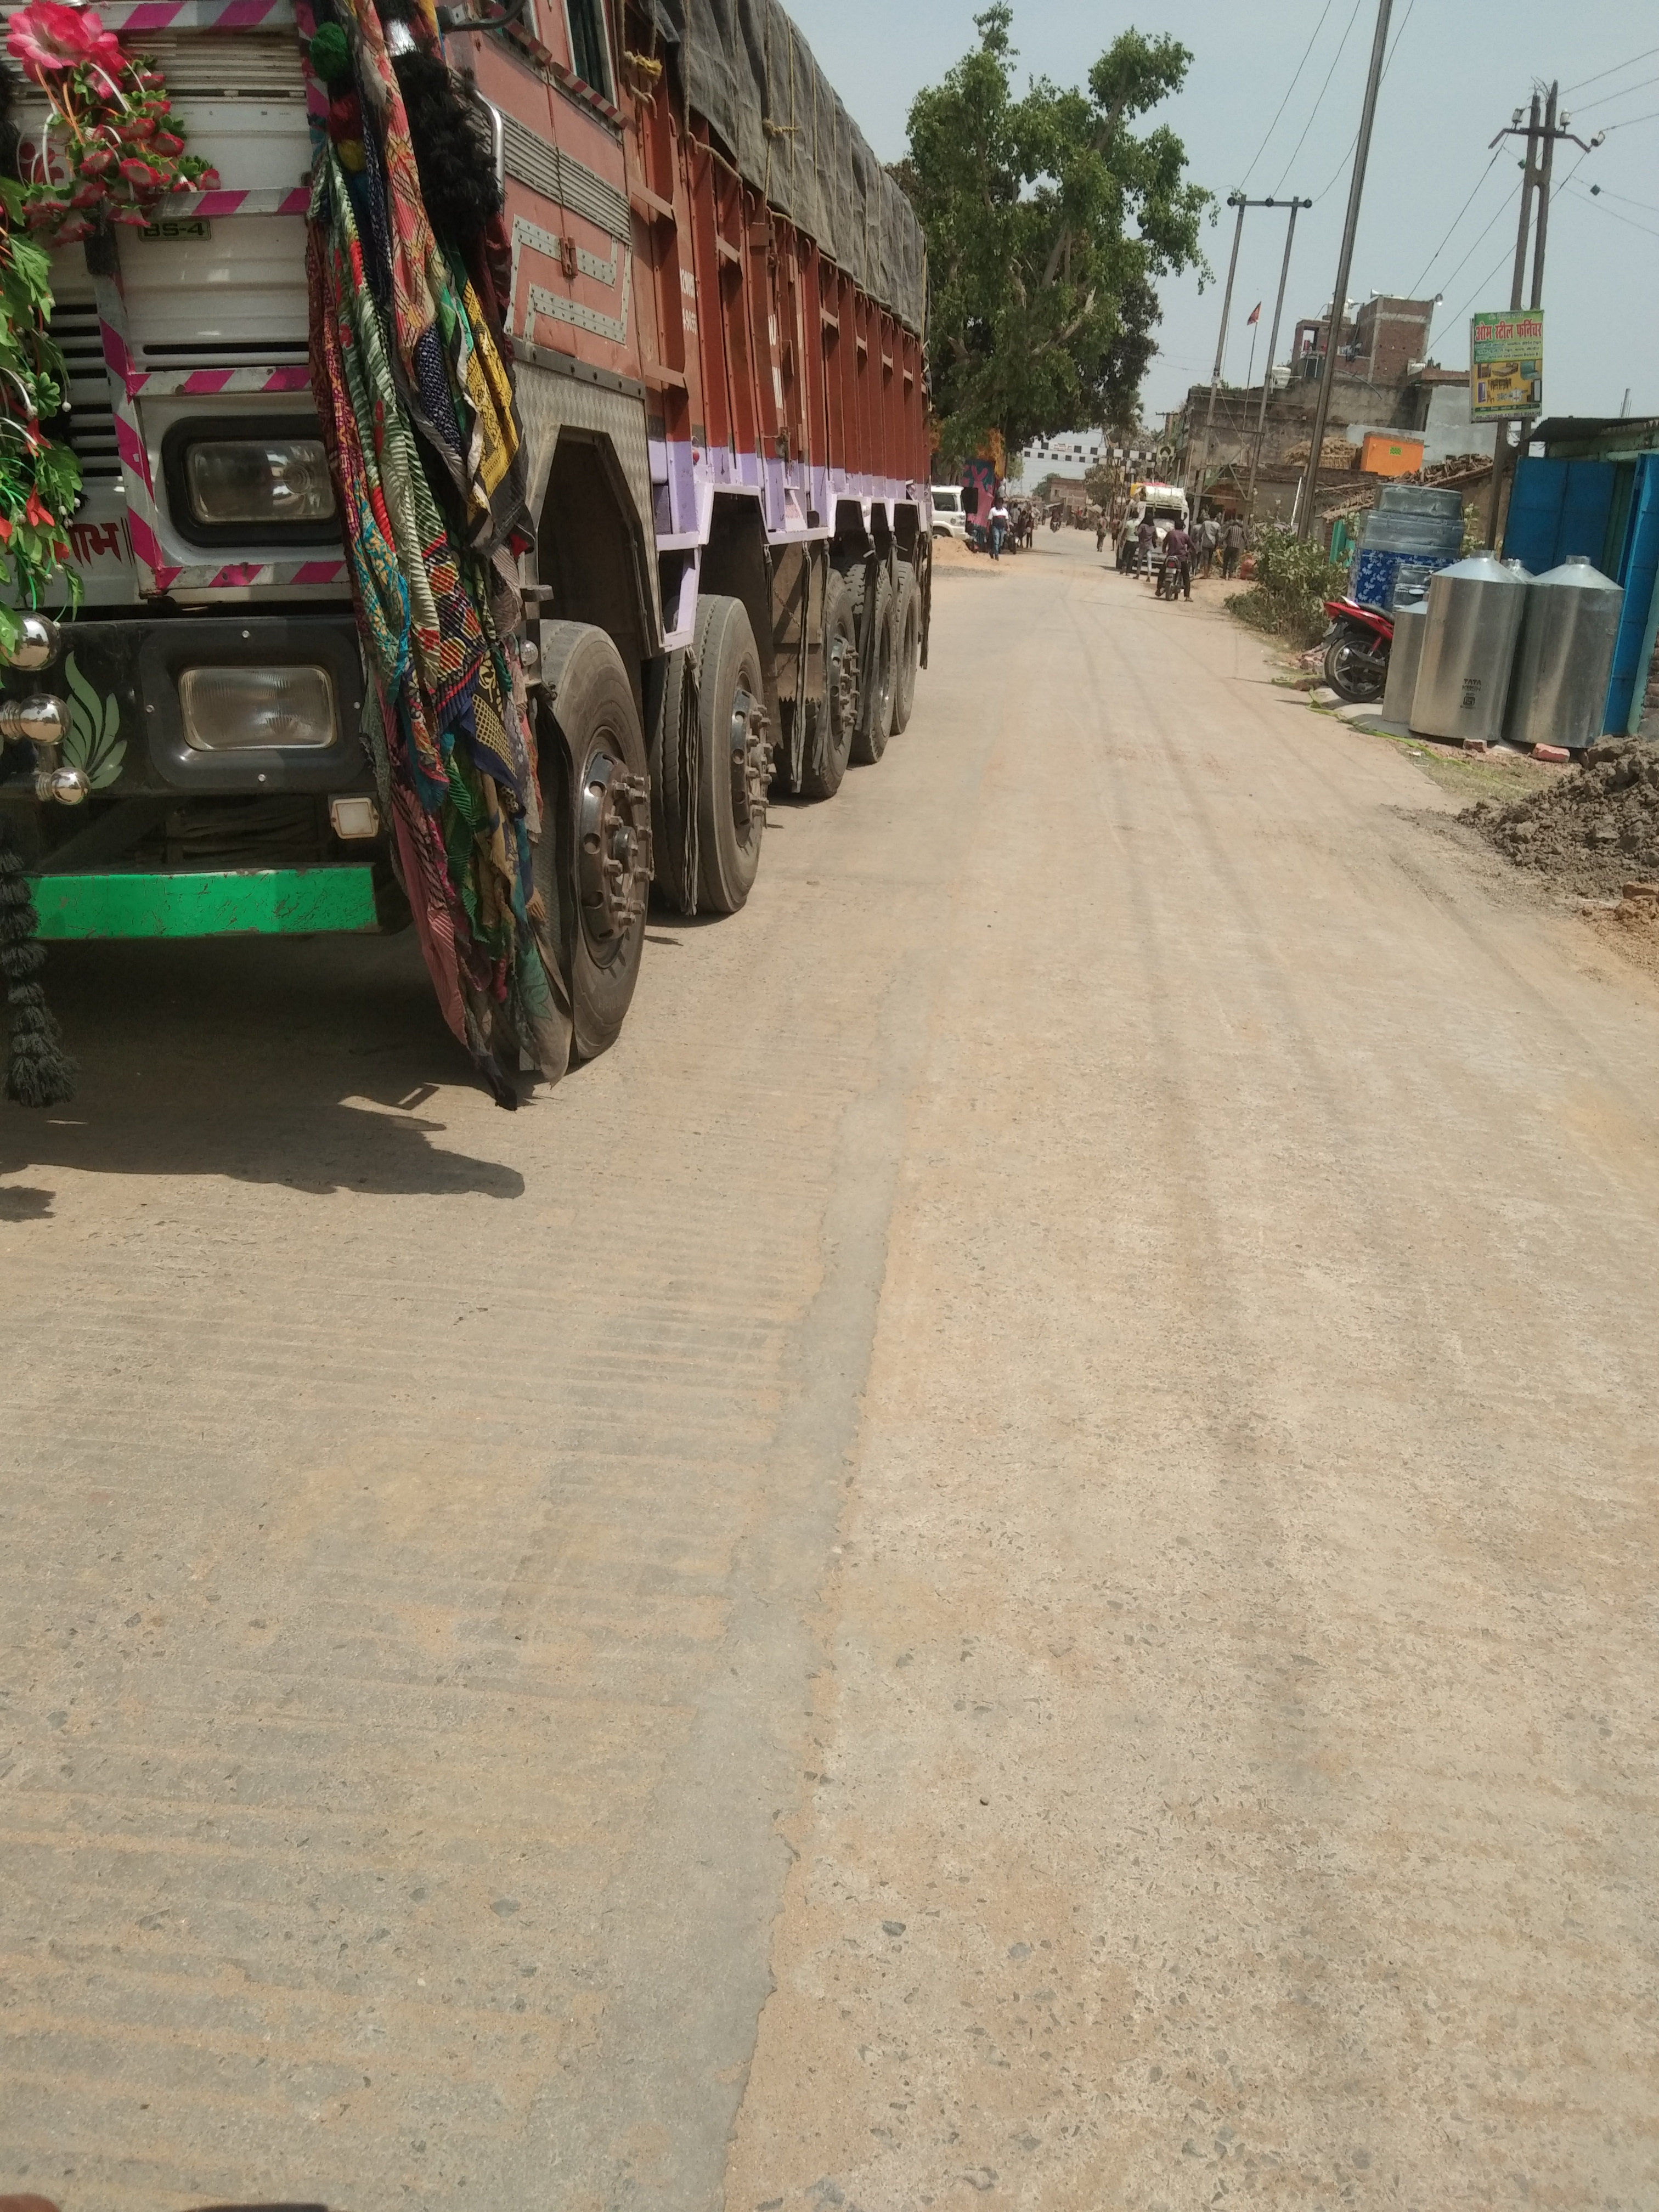truck: (0, 0, 938, 1115)
